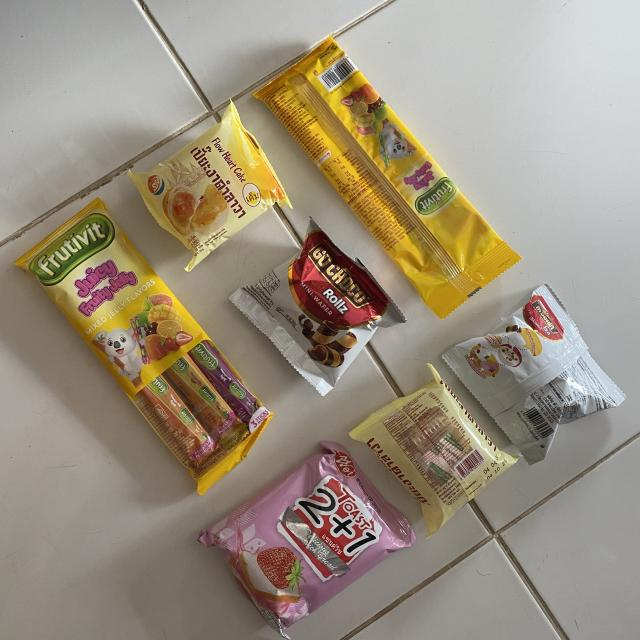plastik: (16, 198, 272, 494), (254, 38, 520, 318), (198, 441, 415, 640), (442, 285, 625, 464), (230, 219, 405, 395), (350, 364, 518, 536), (129, 102, 290, 271)
